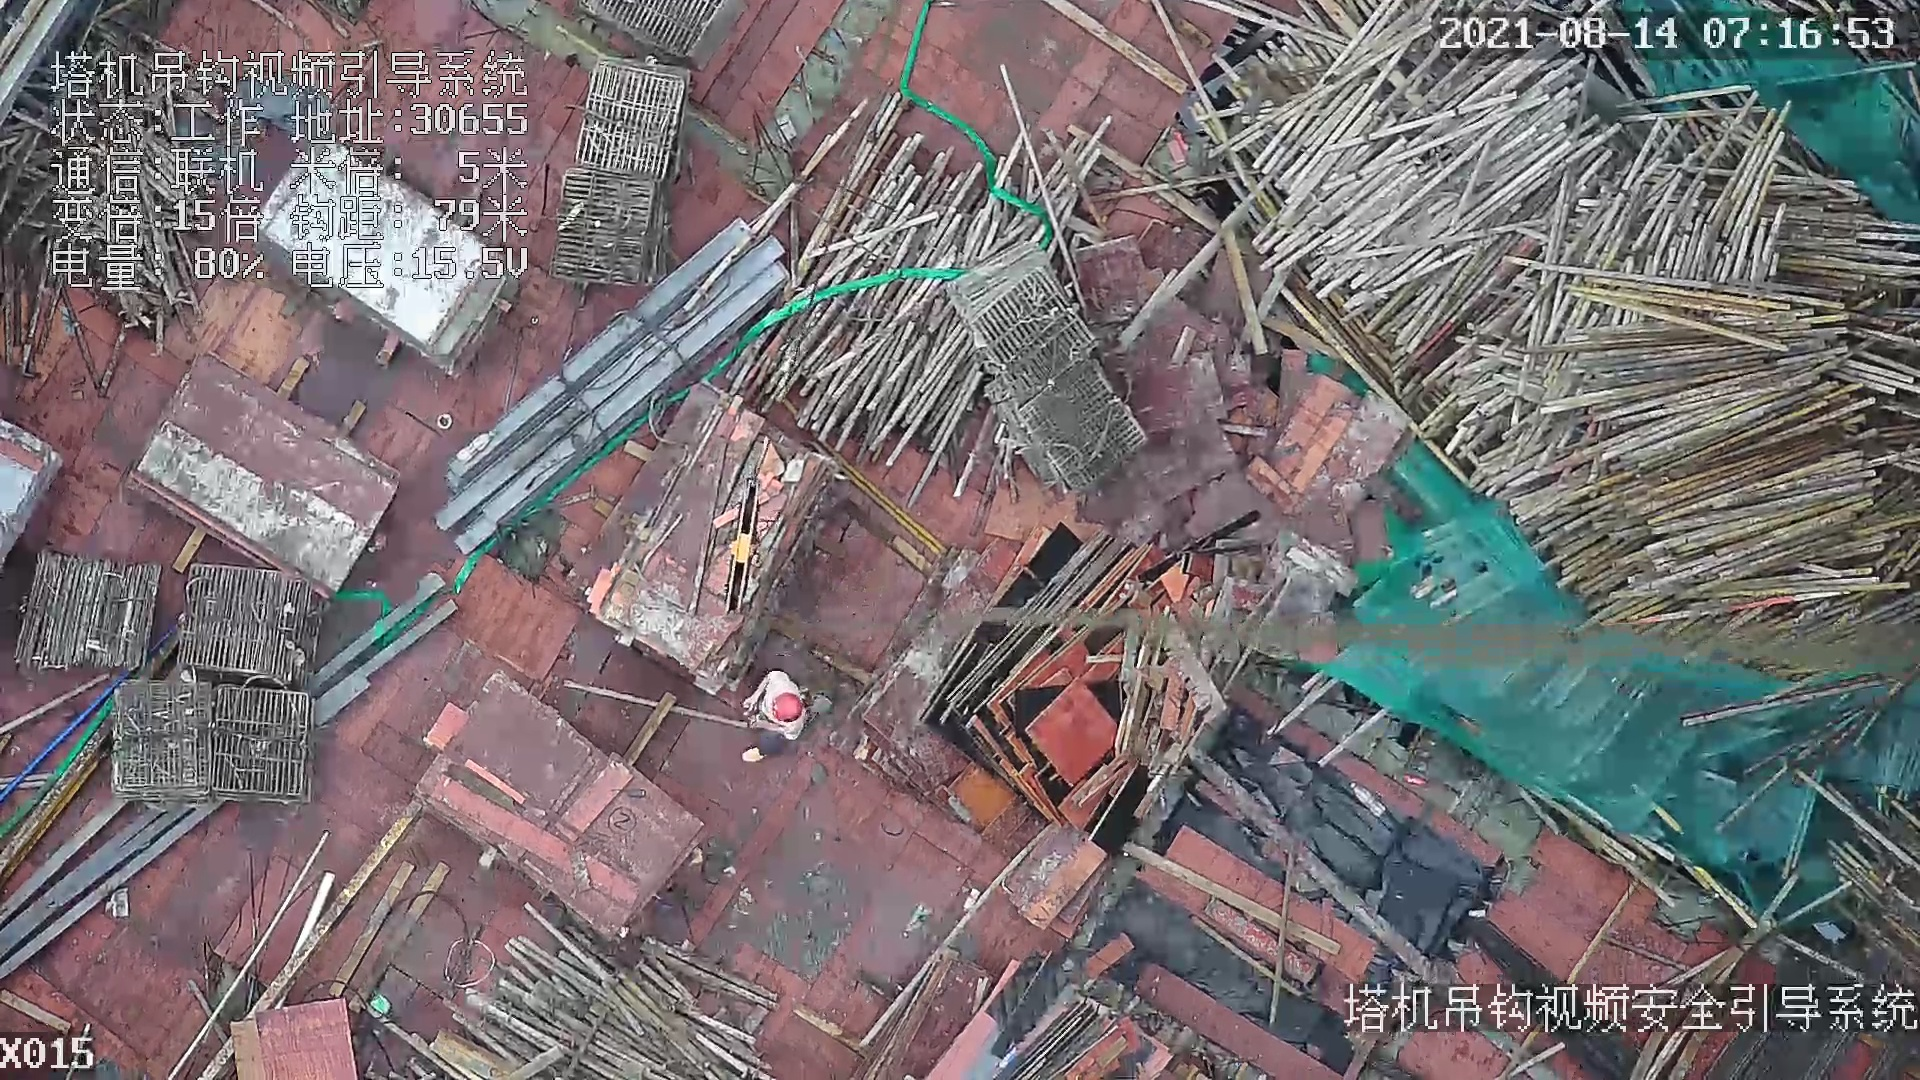helmet: (770, 690, 806, 722)
hook: (712, 468, 758, 617)
person: (712, 669, 817, 758)
